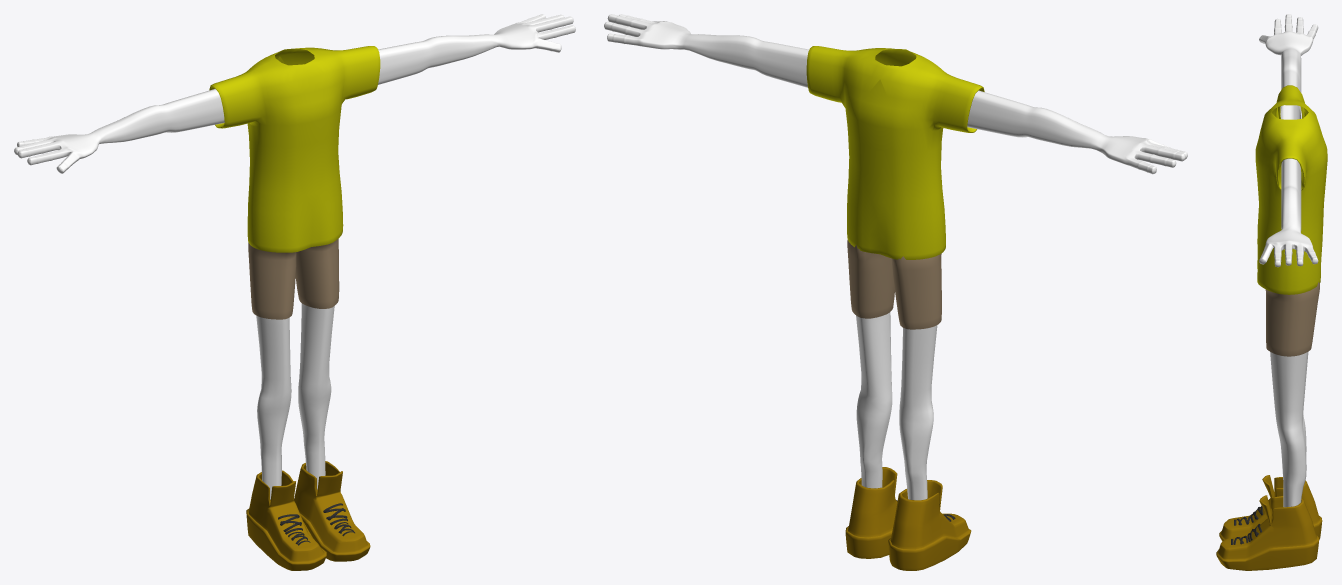
Rendered from Protagonist_without_head.fbx.
3 renders of one model, left to right at view 1: azimuth 30°, elevation 25°; view 2: azimuth 150°, elevation 25°; view 3: azimuth 270°, elevation 25°, orthographic. The views are drawn at different scales.
Visible parts, largest first — view 1: pCube10; view 2: pCube10; view 3: pCube10.
Part boxes in pixels (x1,y1,x2,y2): pCube10: (14,14,575,570); pCube10: (604,14,1187,570); pCube10: (1216,14,1327,570).
Size of the model in its own units: 13.51 by 11.23 by 2.57.
